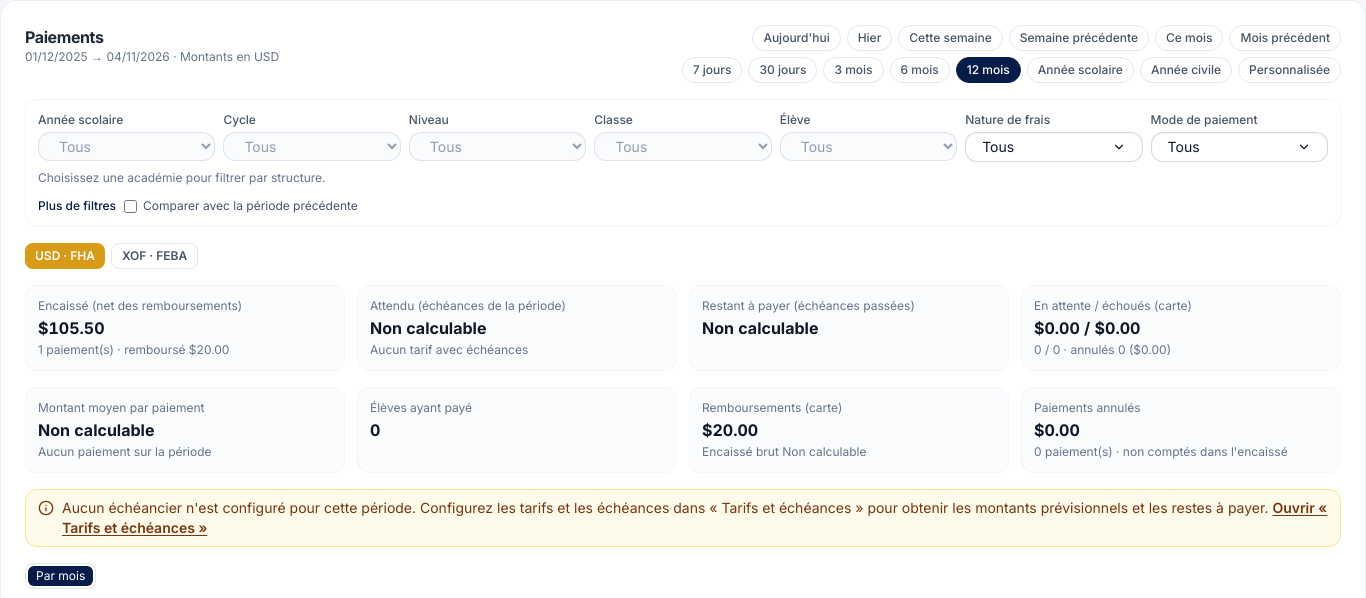
Scenario: graphique des paiements › change de période et exige les deux dates en mode personnalisé
Expected: the element with test id "ind-encaisse" is shown, [25, 285, 345, 371]
Click the button with test id "periode-30j" at (783, 70), box [748, 57, 818, 83]
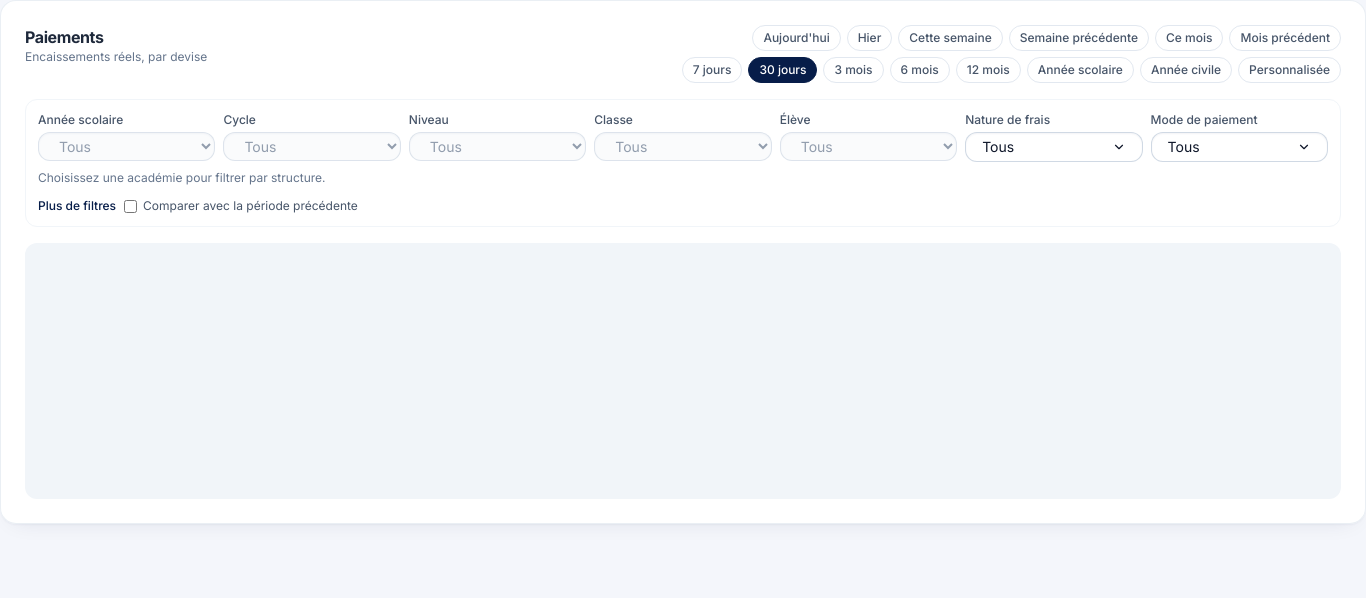
Click the button with test id "periode-perso" at (1290, 70), box [1238, 57, 1341, 83]
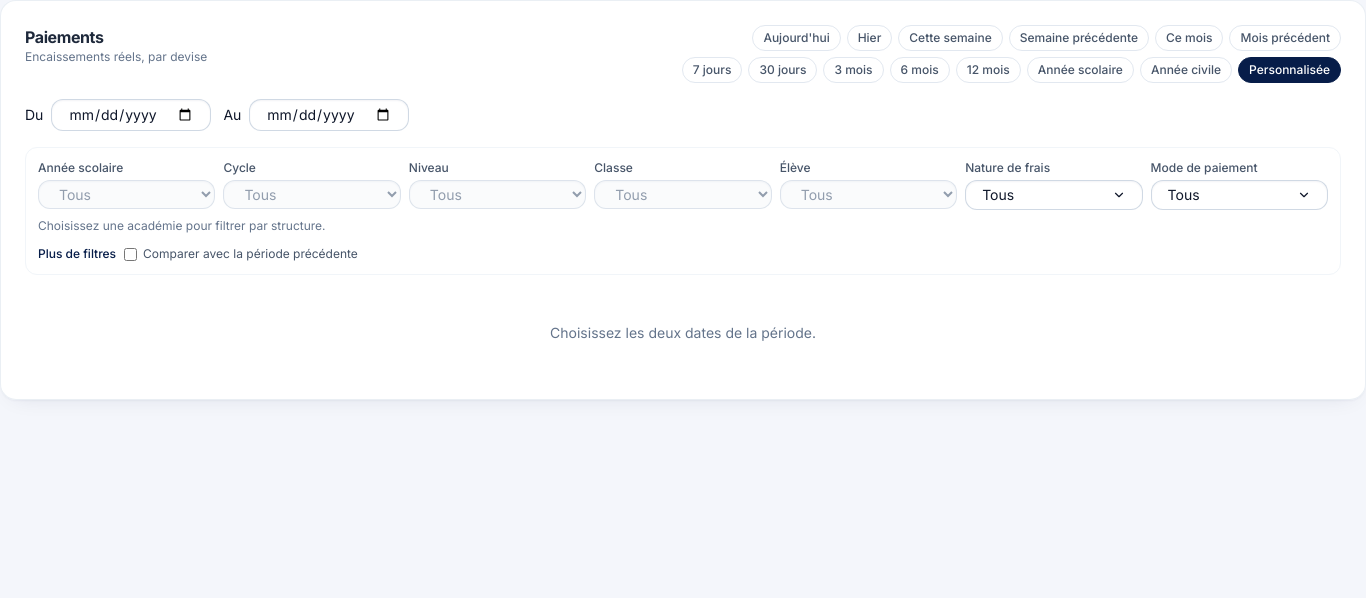
Now the text "Choisissez les deux dates de la période." is shown, box [550, 324, 816, 341]
